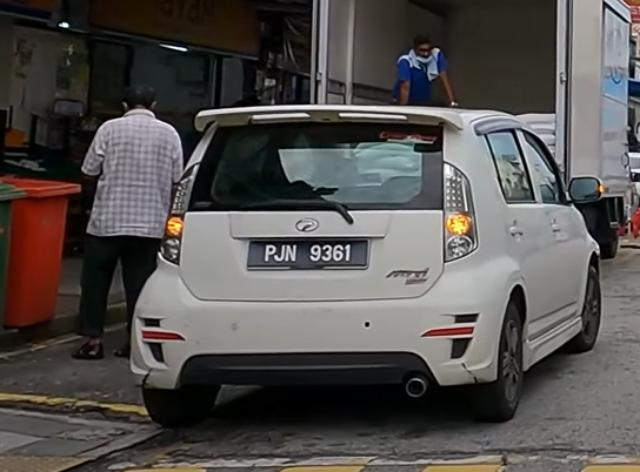License_Plate: (246, 238, 370, 272)
car: (129, 104, 609, 429)
